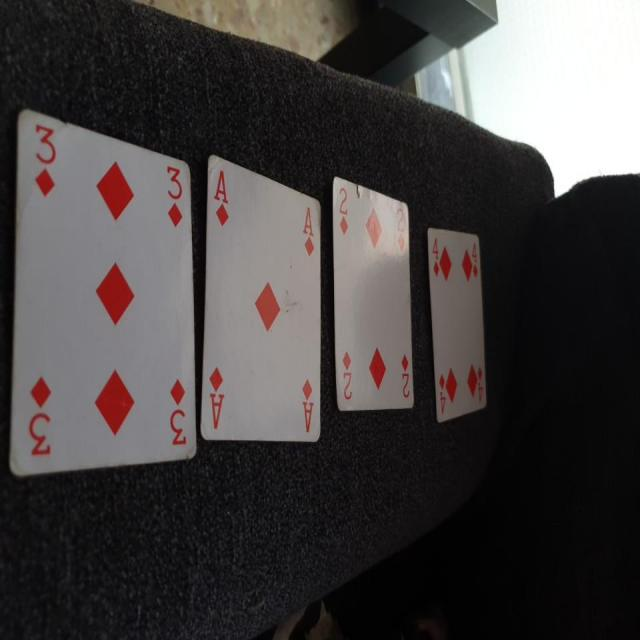2 Diamonds: (327, 172, 416, 417)
3 Diamonds: (9, 112, 197, 477)
4 Diamonds: (424, 222, 489, 424)
A Diamonds: (194, 148, 323, 449)
